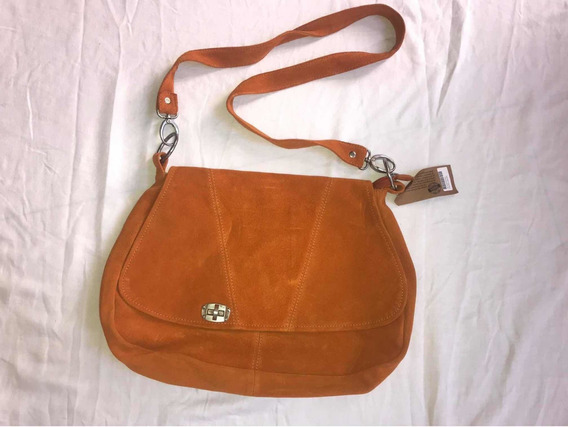cartera: (96, 1, 415, 400)
